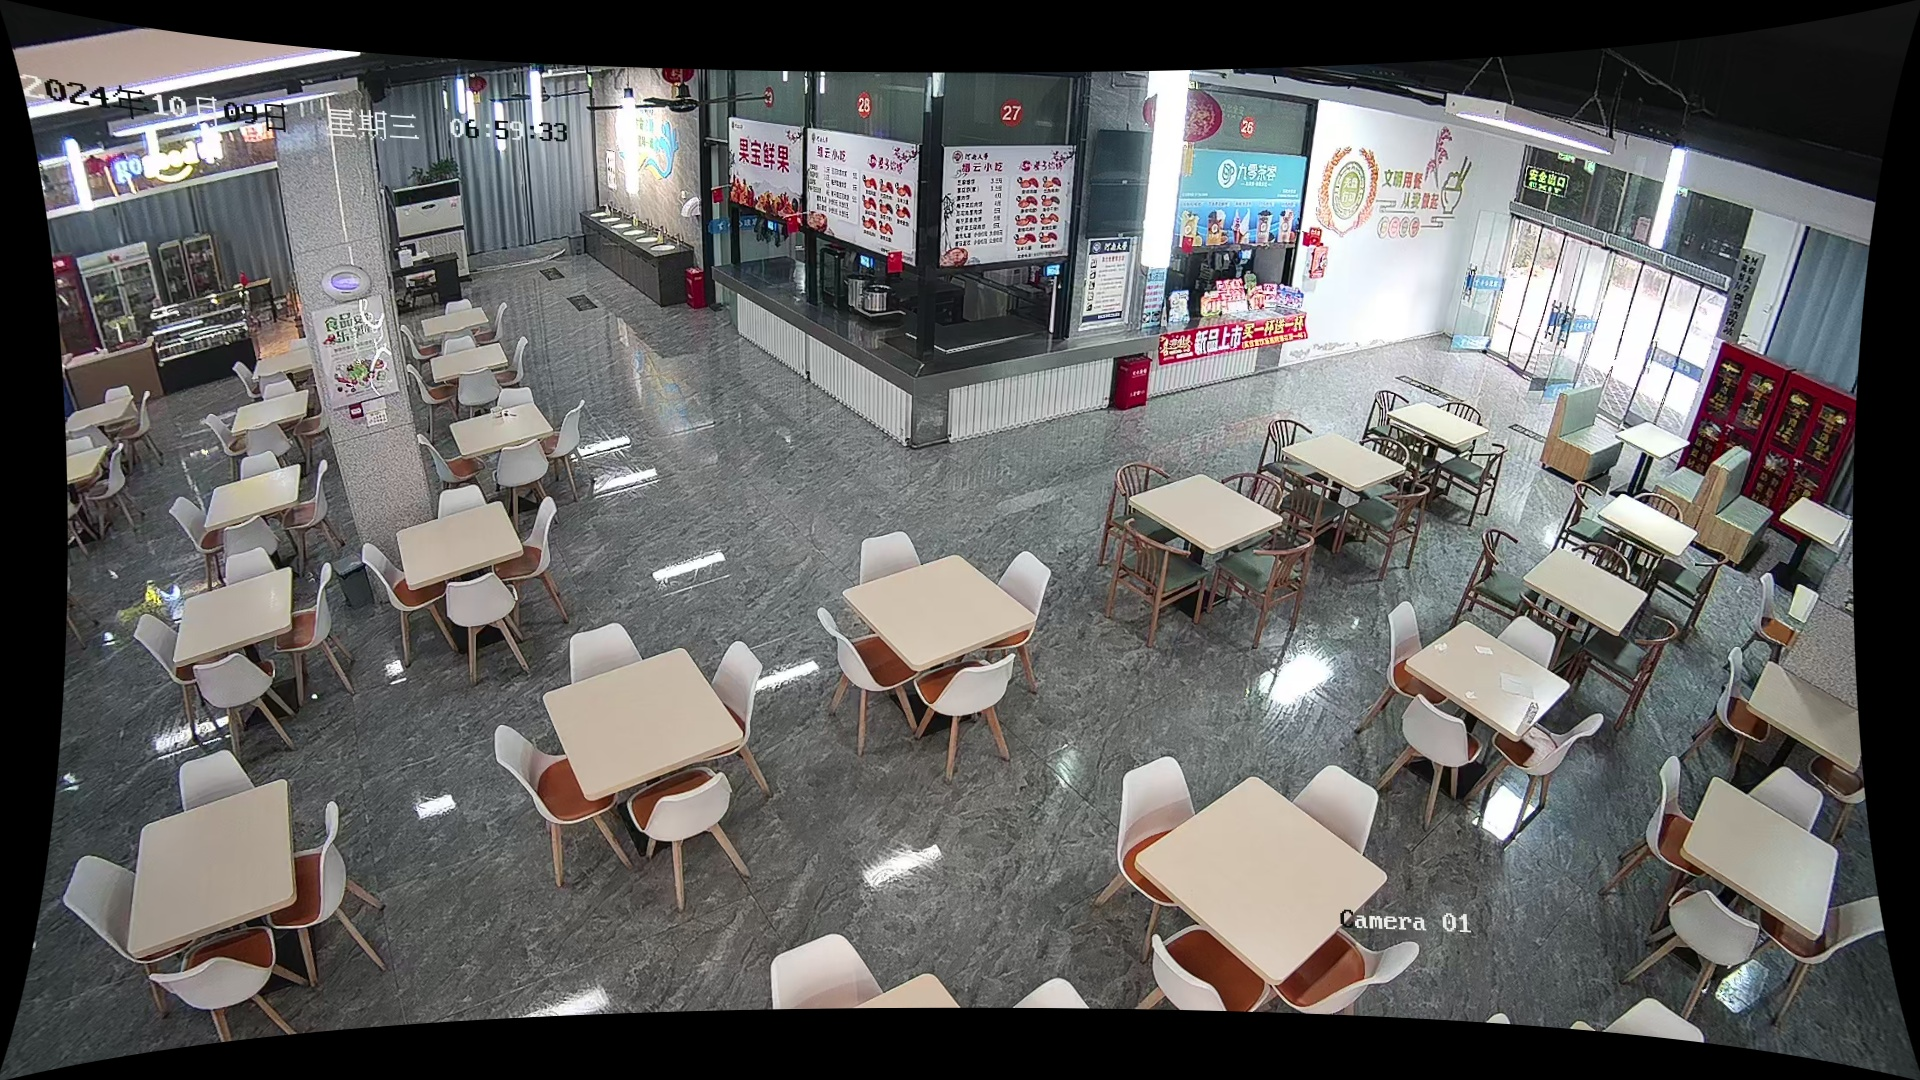a_set: (67, 756, 388, 1044), (1100, 752, 1424, 1018), (496, 633, 791, 903), (1604, 745, 1890, 1023), (1357, 595, 1606, 837), (816, 527, 1052, 775), (131, 551, 353, 753), (360, 483, 572, 678), (1104, 462, 1315, 657), (1687, 644, 1884, 812), (1261, 414, 1433, 578), (167, 454, 345, 554), (418, 386, 593, 484)
